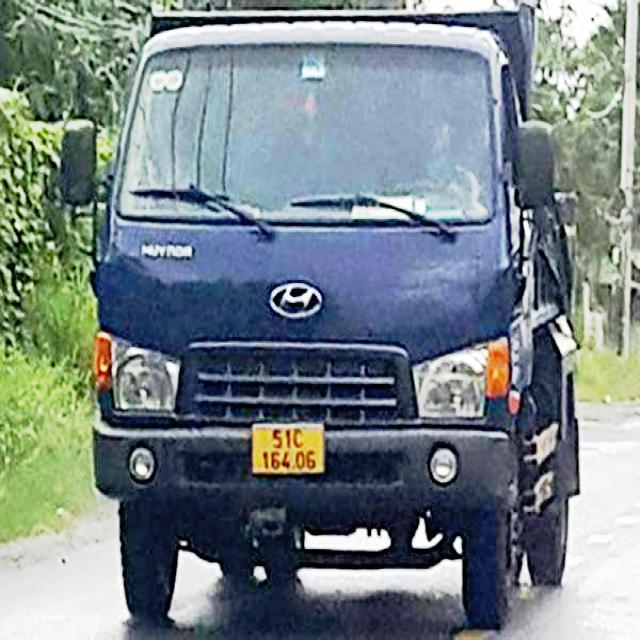license_plate: (253, 425, 326, 472)
